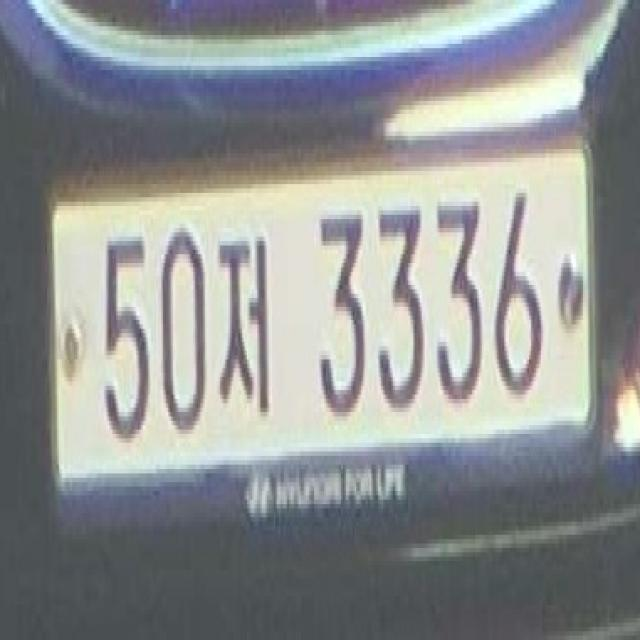0: (158, 212, 208, 438)
3: (433, 180, 489, 420), (316, 196, 371, 434), (377, 171, 428, 427)
5: (98, 219, 156, 452)
6: (492, 185, 548, 419)
jeo: (217, 212, 280, 438)
license_plate: (47, 159, 596, 469)
